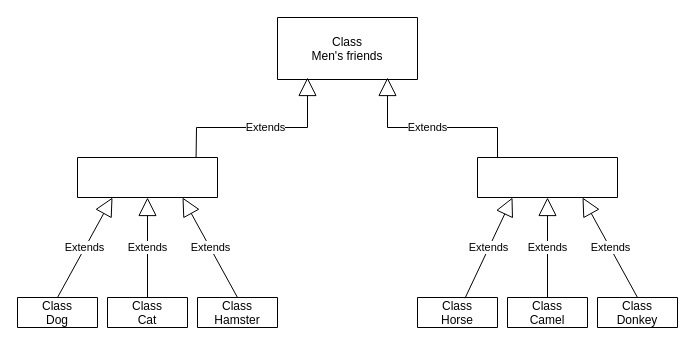
The diagram is 695 pixels wide and 345 high, and some of its shapes have lost their labels. Each missing label, with the box of its shape:
Class Pack animals: (476, 156, 618, 198)
Class Pets: (76, 156, 218, 198)
